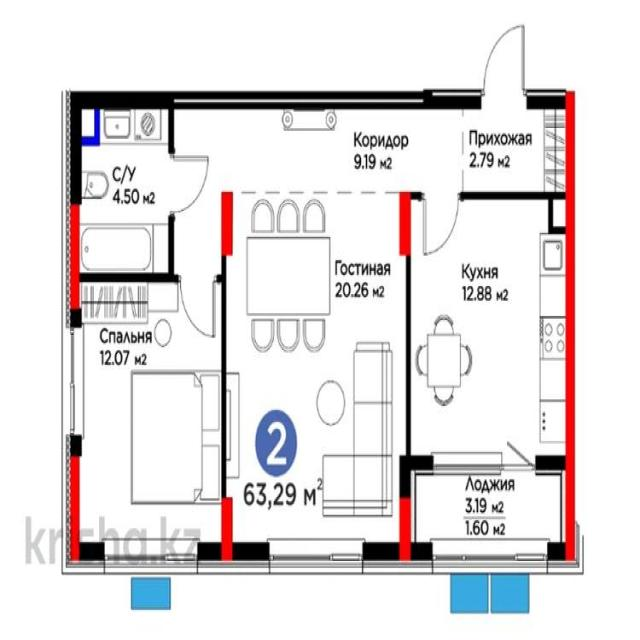balcony: (411, 465, 573, 560)
bathroom: (72, 96, 172, 276)
hallway: (172, 95, 464, 194), (462, 101, 571, 196)
kitchen: (409, 197, 571, 466)
living_room: (226, 192, 410, 548), (72, 277, 224, 561)
